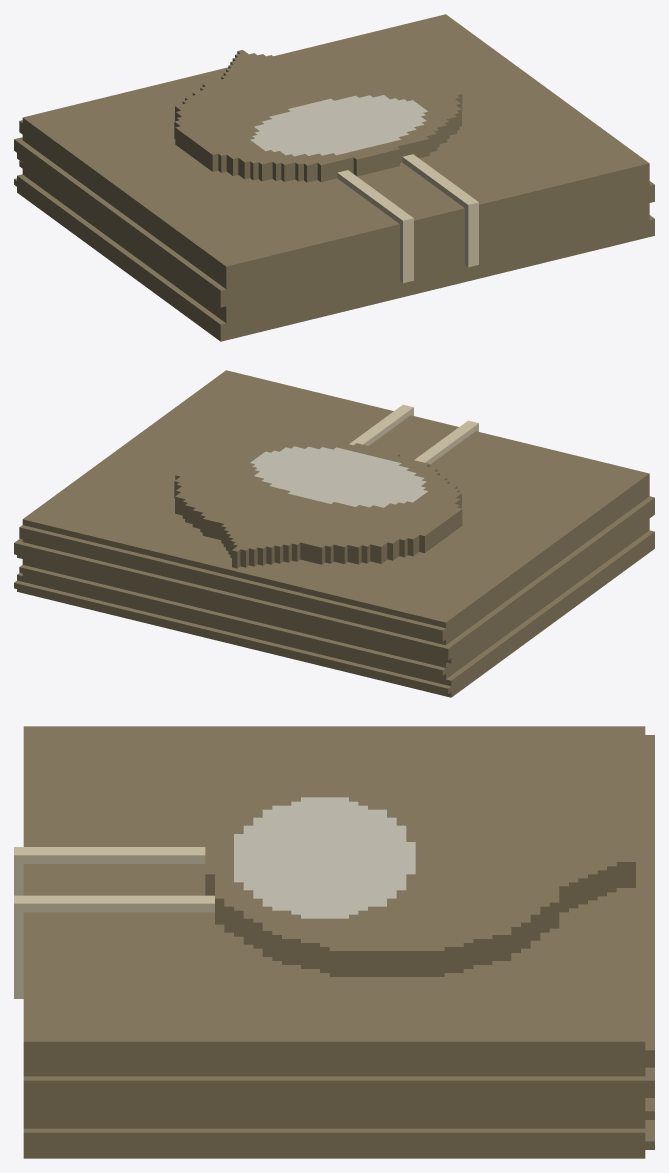
The model's file is cloak.glb.
The picture shows the model from 3 angles, top to bottom: view 1: azimuth 30°, elevation 25°; view 2: azimuth 150°, elevation 25°; view 3: azimuth 270°, elevation 25°; orthographic projection. The views are drawn at different scales.
Visible parts, largest first — view 1: cloak:compound; view 2: cloak:compound; view 3: cloak:compound.
Part boxes in pixels (x1=…): cloak:compound: x1=14, y1=14, x2=654, y2=341; cloak:compound: x1=14, y1=370, x2=654, y2=697; cloak:compound: x1=14, y1=726, x2=654, y2=1158.
Size of the model in its own units: 0.32 by 0.064 by 0.268.
